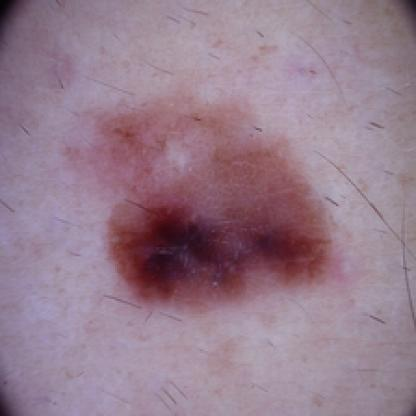Skin_Cancer-Malignant: (105, 183, 338, 315)
